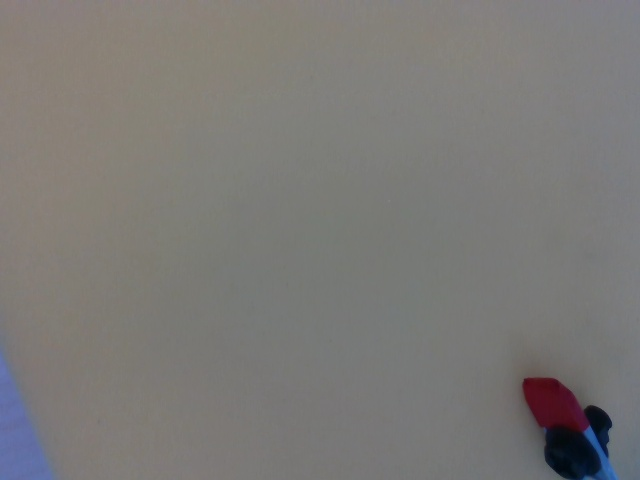part_1_good: (520, 375, 623, 479)
